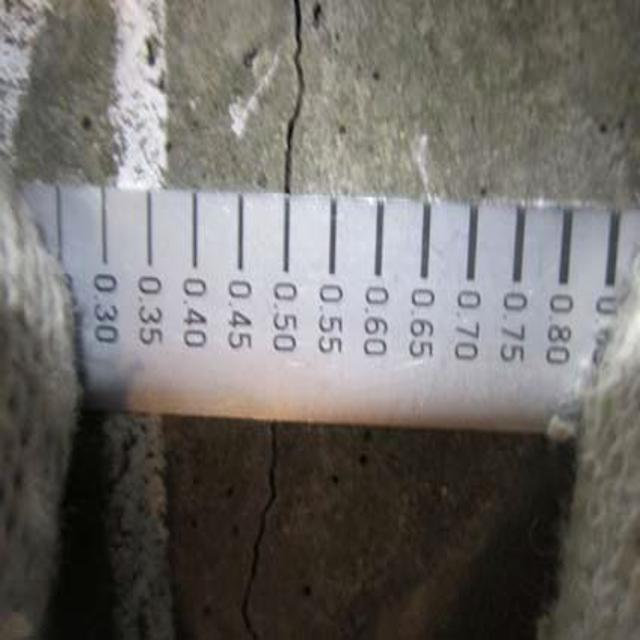crack: (223, 424, 293, 640), (278, 3, 323, 193)
